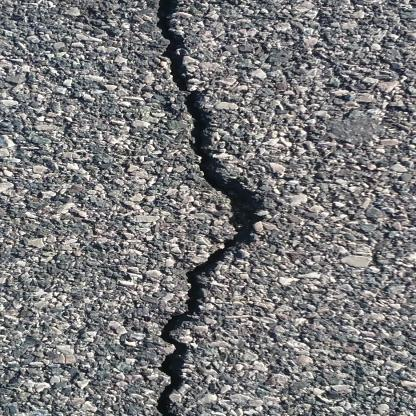Cracks: (154, 0, 263, 416)
